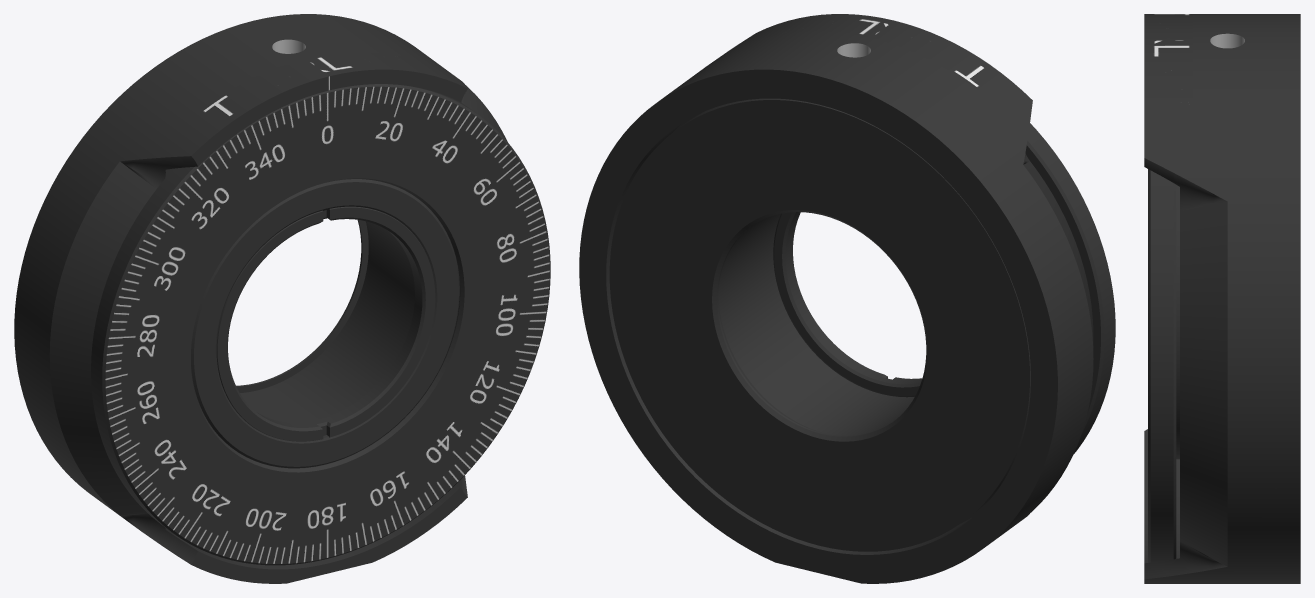
Rendered from RSP1_M.glb.
3 renders of one model, left to right at view 1: azimuth 30°, elevation 25°; view 2: azimuth 150°, elevation 25°; view 3: azimuth 270°, elevation 25°, orthographic. The views are drawn at different scales.
Visible parts, largest first — view 1: rotor, housing, retaining_ring; view 2: rotor, housing, retaining_ring; view 3: housing, rotor.
Part boxes in pixels (x1=…): rotor: x1=91, y1=84, x2=550, y2=565; housing: x1=14, y1=14, x2=507, y2=583; retaining_ring: x1=216, y1=206, x2=435, y2=441; rotor: x1=609, y1=98, x2=1115, y2=551; housing: x1=579, y1=14, x2=1093, y2=583; retaining_ring: x1=773, y1=212, x2=922, y2=397; housing: x1=1144, y1=14, x2=1300, y2=583; rotor: x1=1148, y1=169, x2=1179, y2=562.
Bounding box in the file's own units: 0.0564 × 0.0559 × 0.0155.
3 materials, 1 textured.
